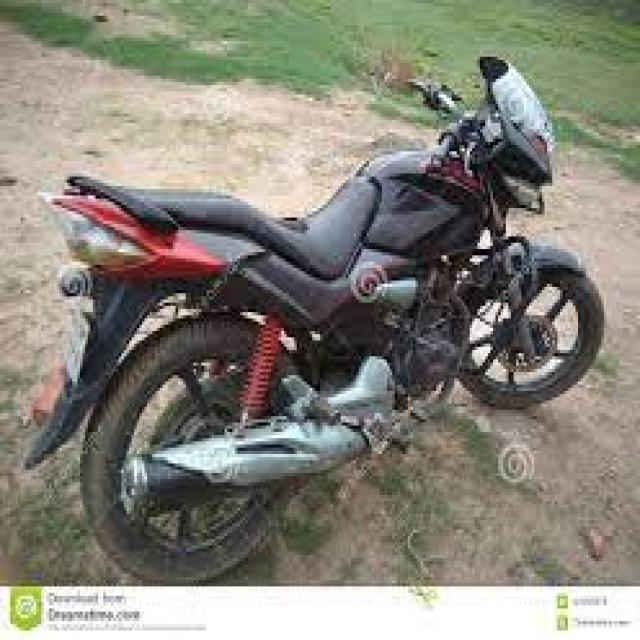Bike: (23, 54, 604, 585)
